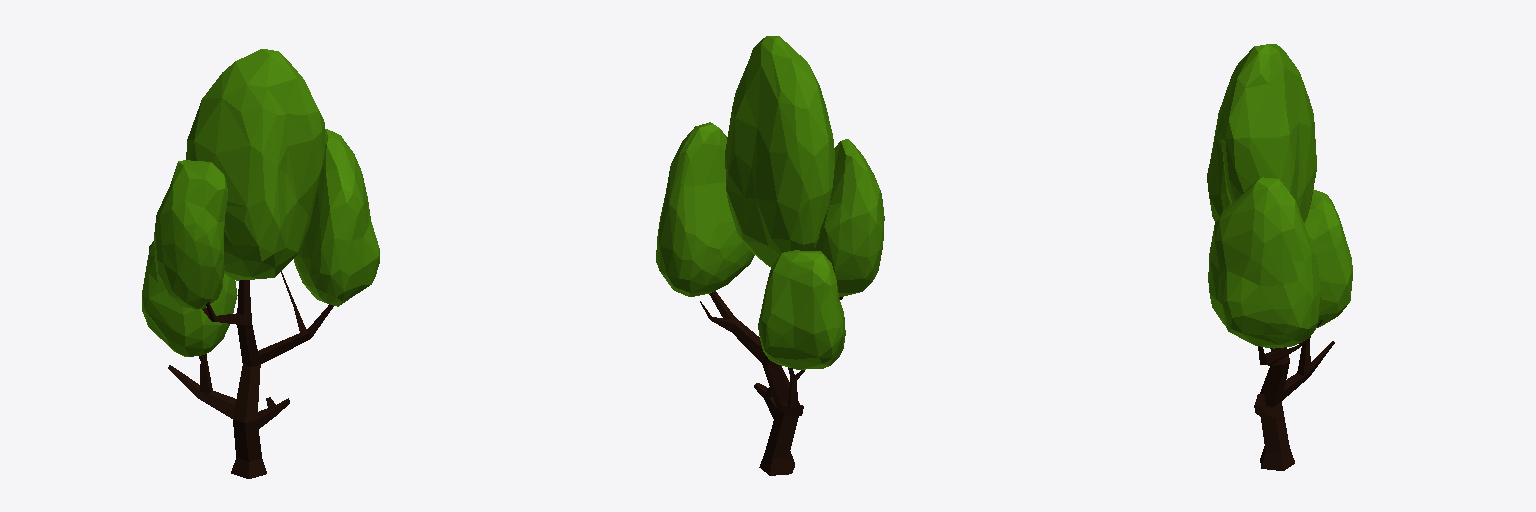
File: tree_lvl_26.obj
3 renders of one model, left to right at view 1: azimuth 30°, elevation 25°; view 2: azimuth 150°, elevation 25°; view 3: azimuth 270°, elevation 25°, orthographic.
Size of the model in its own units: 10.48 by 20.22 by 6.34.